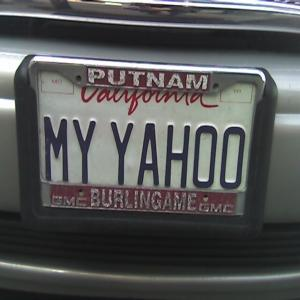Vehicle-registration-plate: (42, 57, 256, 221)
